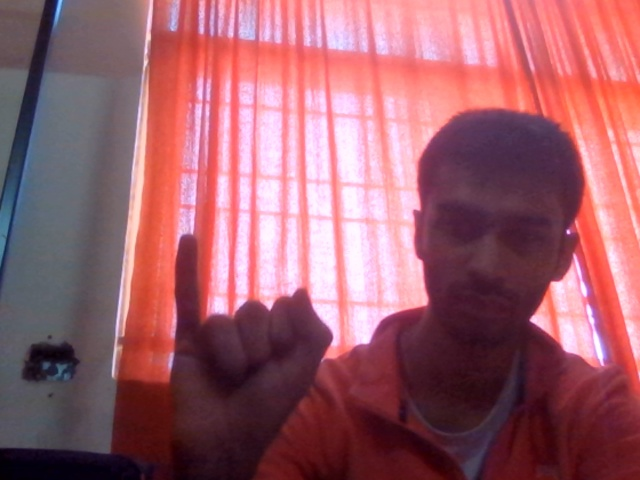I: (104, 212, 365, 477)
